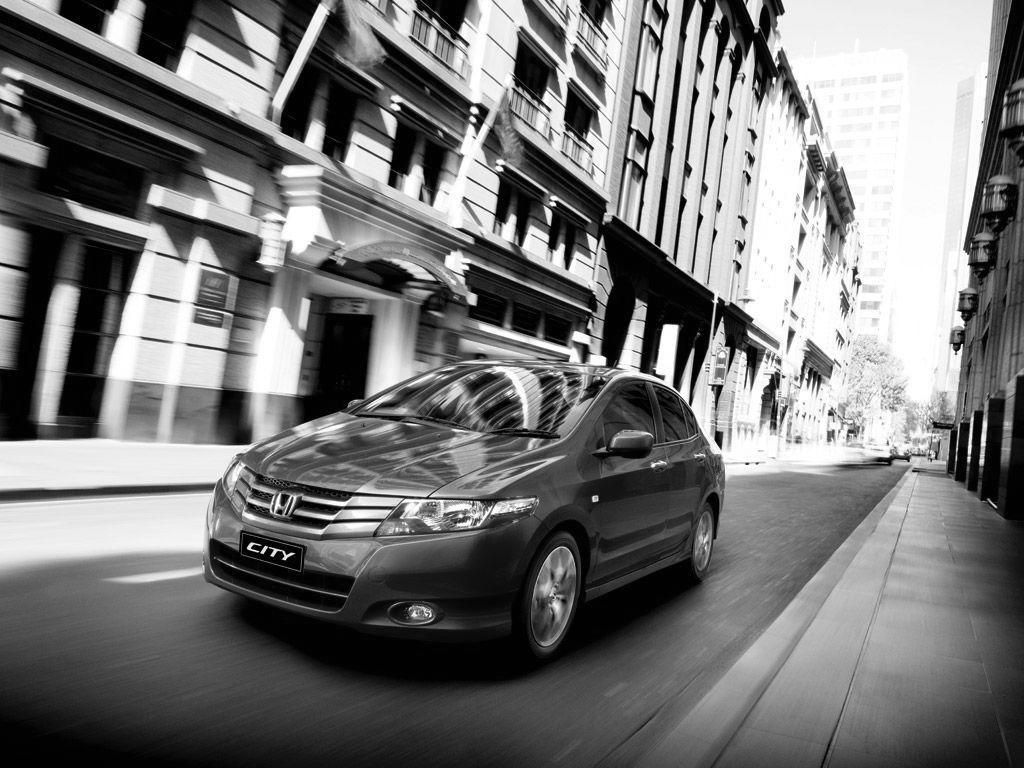Car hood: (235, 406, 557, 499)
Fender - -F-L-: (531, 430, 606, 603)
Fender - -R-L-: (683, 455, 728, 550)
Front bumper: (198, 480, 554, 649)
Headlight - -L-: (367, 487, 545, 545)
Headlight - -R-: (209, 450, 256, 508)
Passenger-s door - -F-L-: (590, 371, 667, 595)
Passenger-s door - -R-L-: (651, 378, 704, 569)
Side bumper - -L-: (582, 545, 700, 607)
Side mirror - -L-: (598, 417, 661, 463)
Side mirror - -R-: (336, 391, 370, 432)
